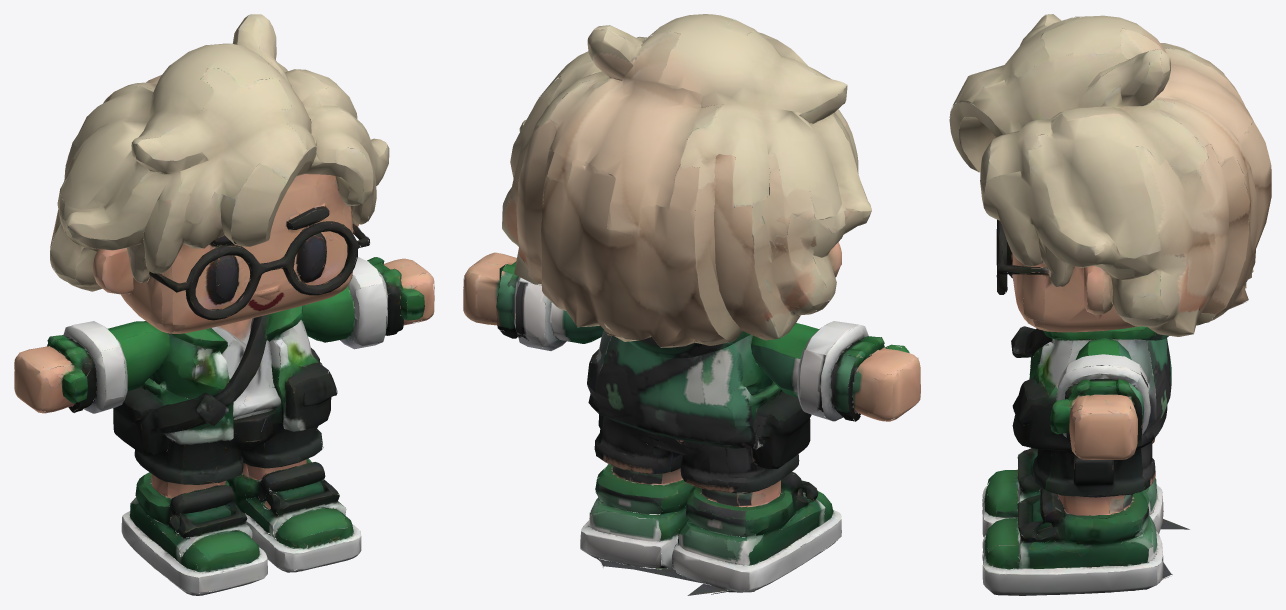
The model's file is neo_final.glb.
3 renders of one model, left to right at view 1: azimuth 30°, elevation 25°; view 2: azimuth 150°, elevation 25°; view 3: azimuth 270°, elevation 25°, orthographic. The views are drawn at different scales.
Parts seen in each view (by area): view 1: Body; view 2: Body; view 3: Body.
Part boxes in pixels (left/top/right/bottom): Body: left=14, top=14, right=434, bottom=595; Body: left=463, top=14, right=920, bottom=595; Body: left=949, top=14, right=1271, bottom=595.
Size of the model in its own units: 0.6109 by 0.72 by 0.396.
Materials: 1 (1 with a texture image).
